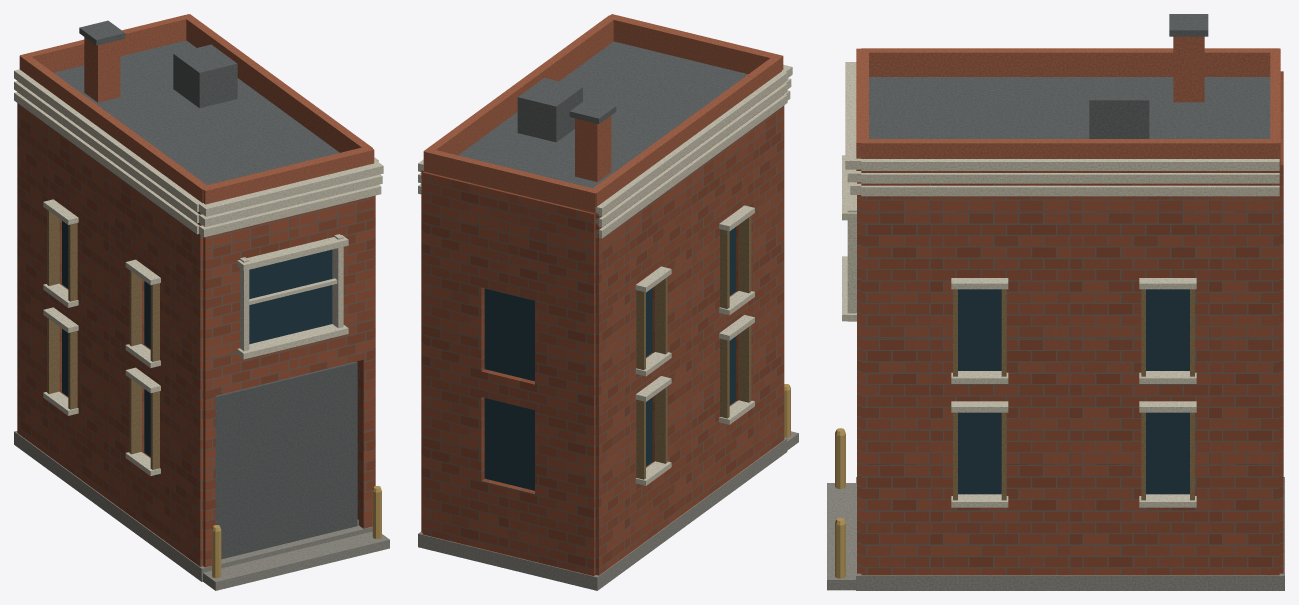
File: WHSE15_lod2.glb
3 renders of one model, left to right at view 1: azimuth 30°, elevation 25°; view 2: azimuth 150°, elevation 25°; view 3: azimuth 270°, elevation 25°, orthographic. The views are drawn at different scales.
Visible parts, largest first — view 1: WHSE15_LOD2; view 2: WHSE15_LOD2; view 3: WHSE15_LOD2.
Part boxes in pixels (x1,y1,x2,y2): WHSE15_LOD2: (14,14,389,590); WHSE15_LOD2: (418,14,798,590); WHSE15_LOD2: (827,14,1284,590).
Bounding box in the file's own units: 3.71 × 7.85 × 6.57.
Materials: 9 (6 with a texture image).
